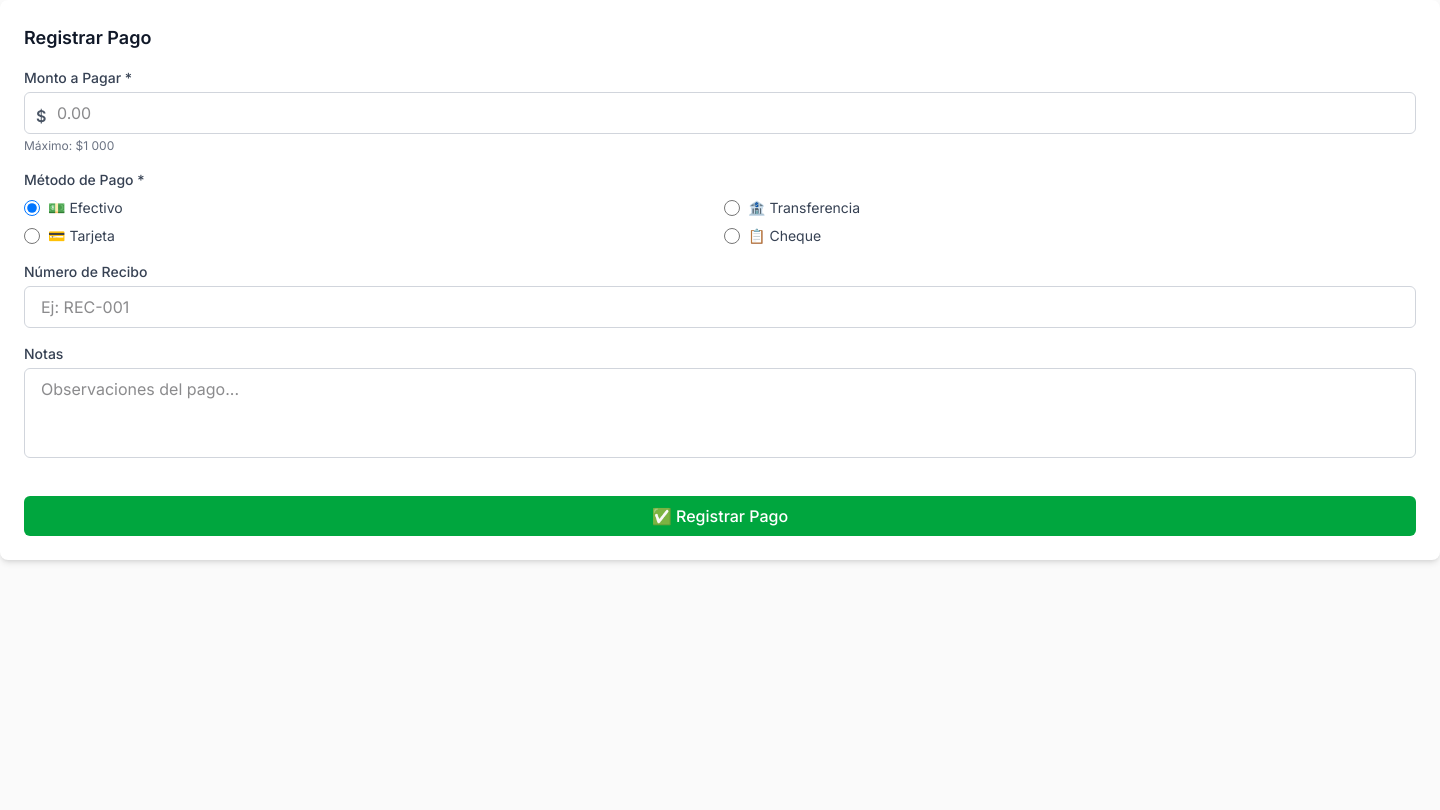
it: PaymentForm Component › should reject negative amount
In the number field with placeholder "0.00": (720, 113) [24,92,1416,134], type "-100"
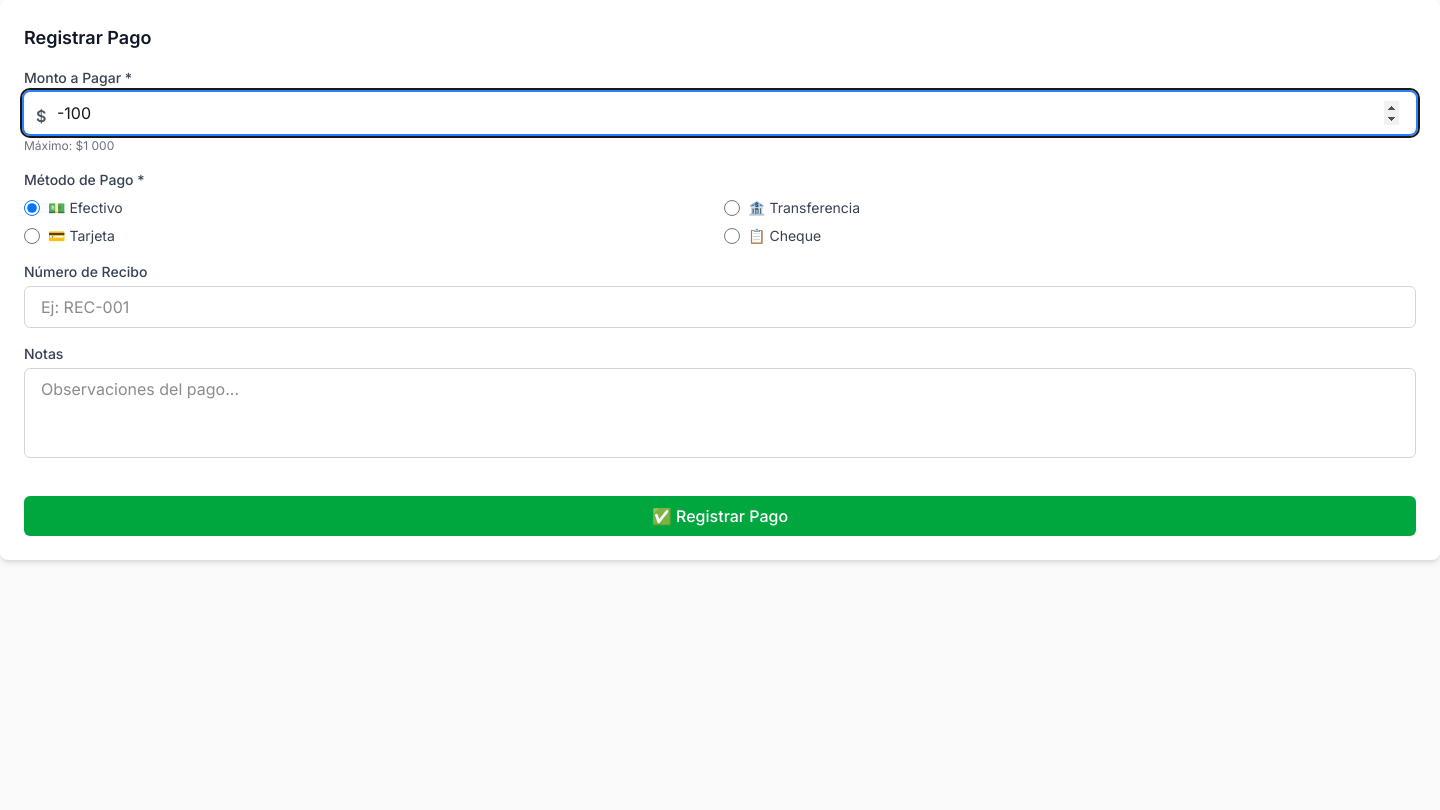
Click the button "✅ Registrar Pago": (720, 516) [24,496,1416,536]
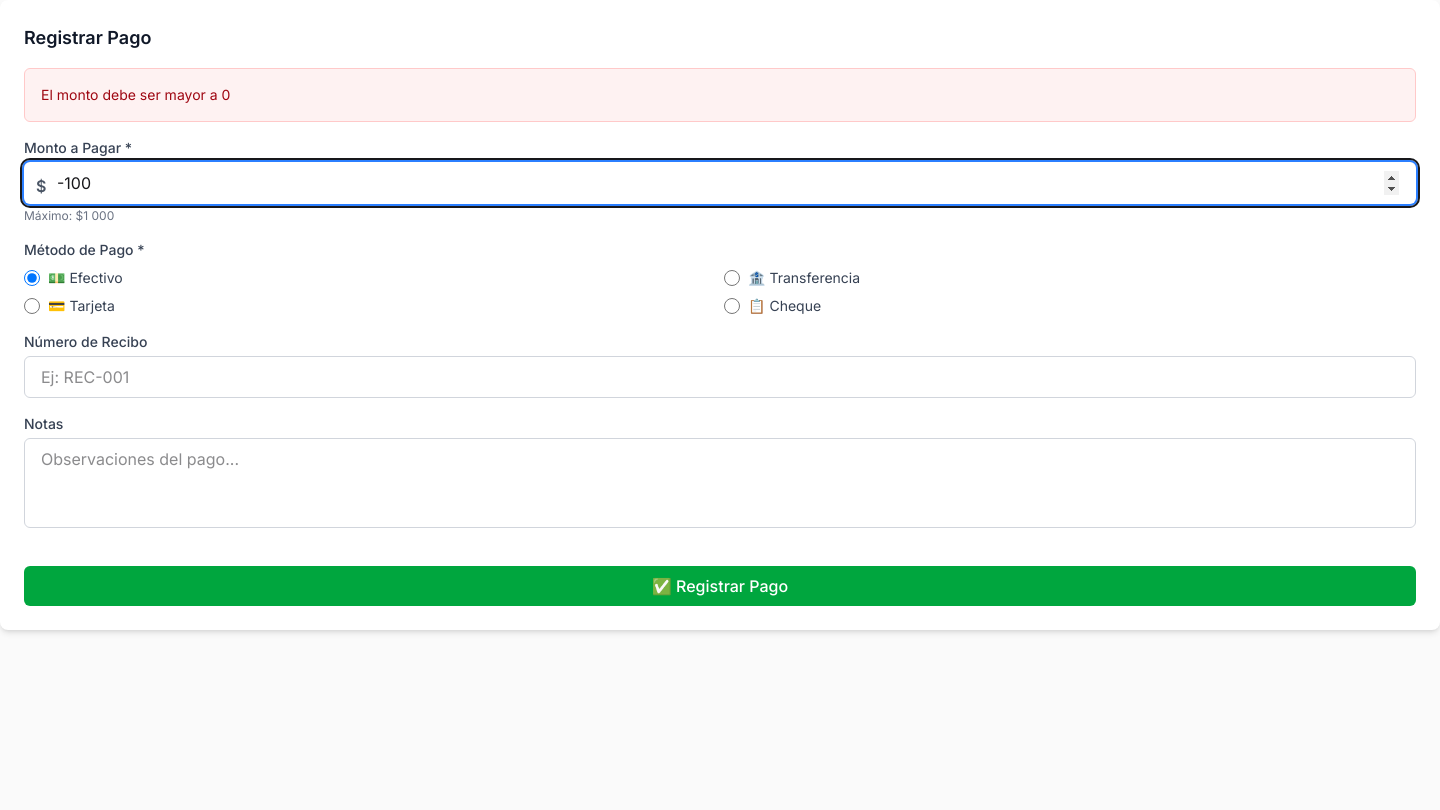
Expected: the text "El monto debe ser mayor a 0" is shown, [41,86,230,103]
